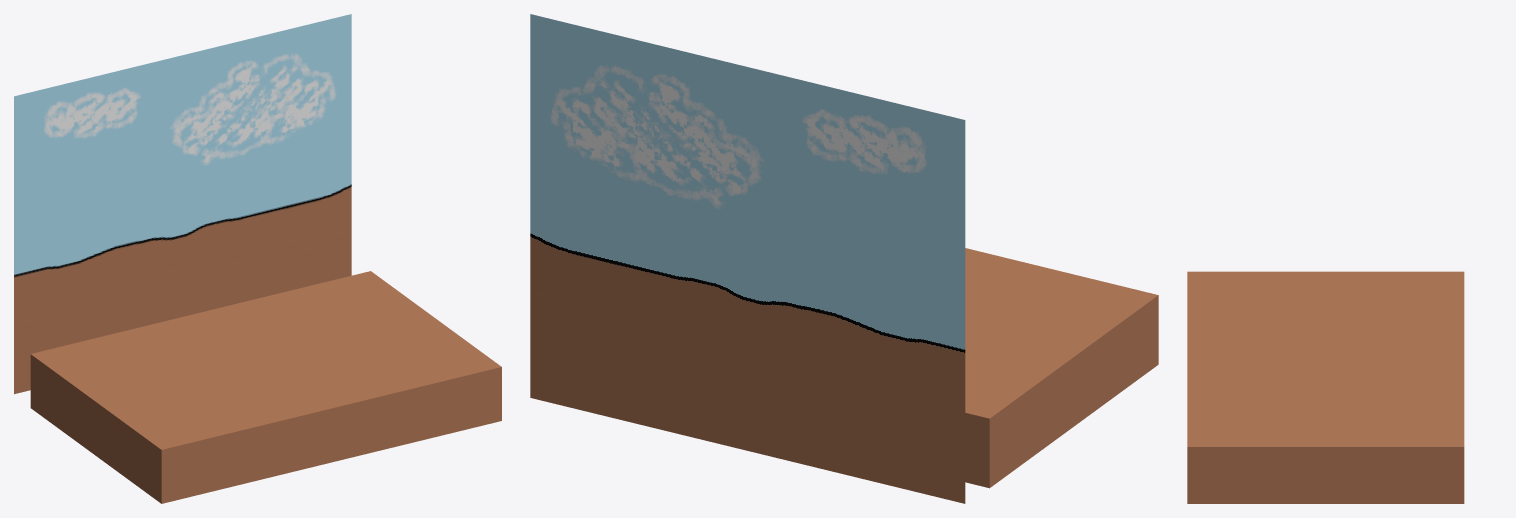
File: 未命名.glb
The picture shows the model from 3 angles, left to right: view 1: azimuth 30°, elevation 25°; view 2: azimuth 150°, elevation 25°; view 3: azimuth 270°, elevation 25°; orthographic projection. The views are drawn at different scales.
Parts seen in each view (by area): view 1: mesh_id1, mesh_id30; view 2: mesh_id1, mesh_id30; view 3: mesh_id30.
Boxes of the visible parts, box(x1,y1,x2,y2) form: mesh_id1: box(14, 14, 351, 394); mesh_id30: box(30, 271, 501, 503); mesh_id1: box(530, 14, 965, 503); mesh_id30: box(965, 248, 1158, 488); mesh_id30: box(1187, 271, 1464, 503).
Size of the model in its own units: 0.7159 by 0.6 by 0.5421.
2 materials, 2 textured.
